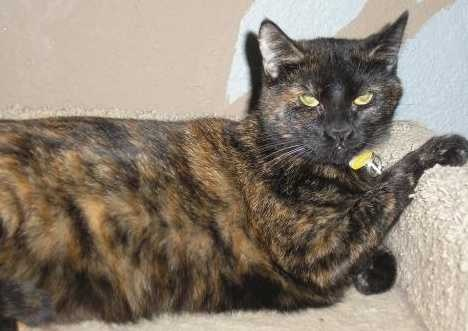Cat: (0, 14, 407, 326)
